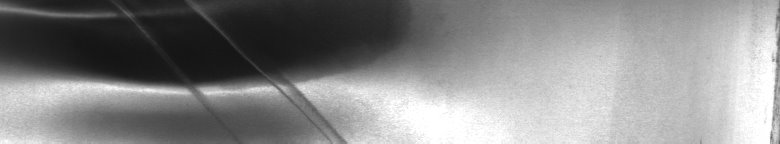ke: (4, 4, 364, 136)
